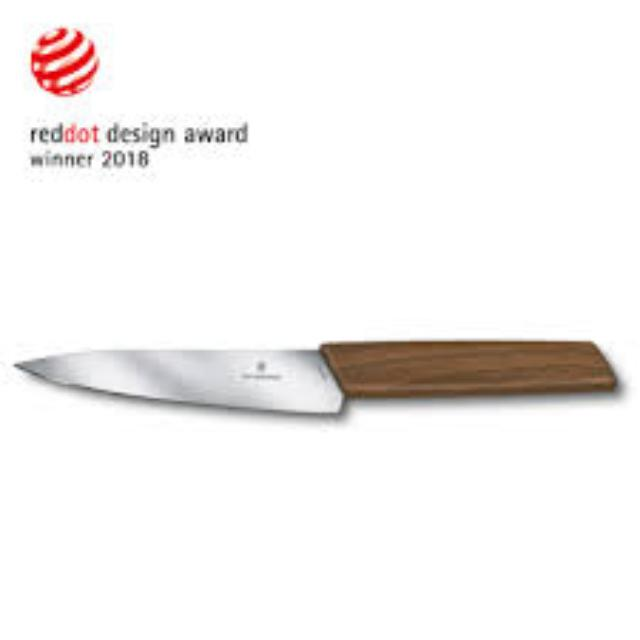knife: (11, 339, 616, 415)
